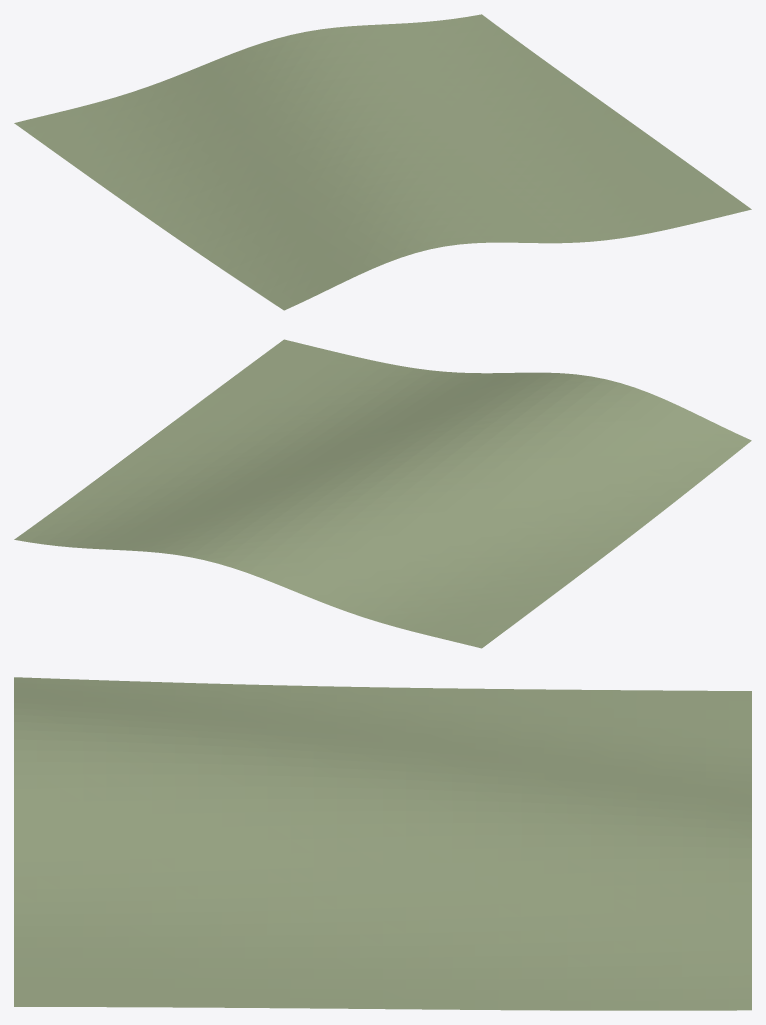
Rendered from desert-5-3.glb.
3 views of the same model, one above another, from view 1: azimuth 30°, elevation 25°; view 2: azimuth 150°, elevation 25°; view 3: azimuth 270°, elevation 25° (orthographic). The views are drawn at different scales.
Parts seen in each view (by area): view 1: desert-5-3; view 2: desert-5-3; view 3: desert-5-3.
Part boxes in pixels (box(x1,y1,x2,y2)): desert-5-3: box(14, 14, 751, 310); desert-5-3: box(14, 339, 751, 648); desert-5-3: box(14, 677, 751, 1010).
Size of the model in its own units: 512 by 43.46 by 512.
